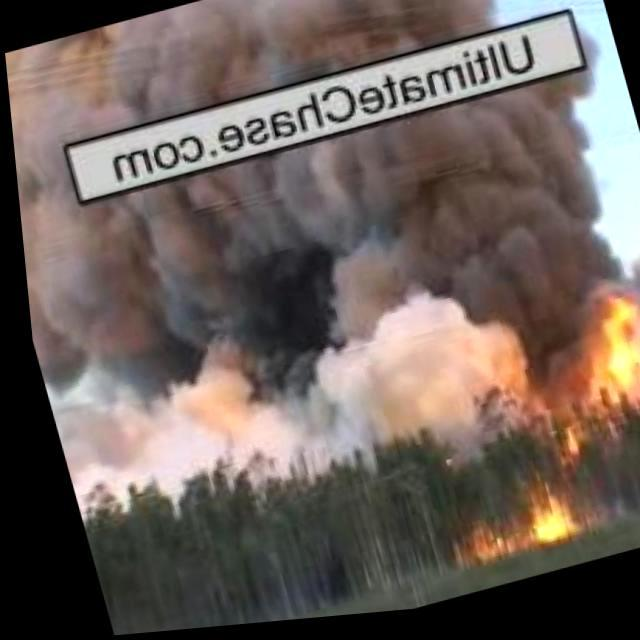fire: (548, 280, 640, 436), (507, 484, 569, 552), (448, 520, 494, 566)
